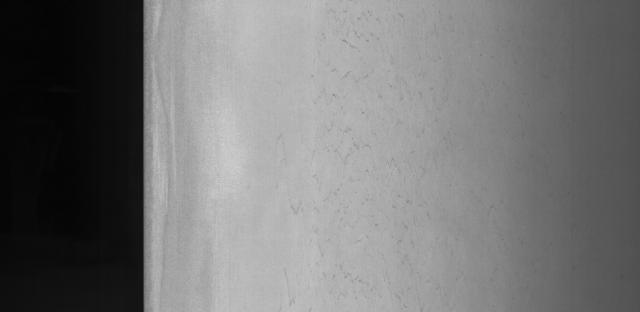silk_spot: (298, 0, 456, 267)
